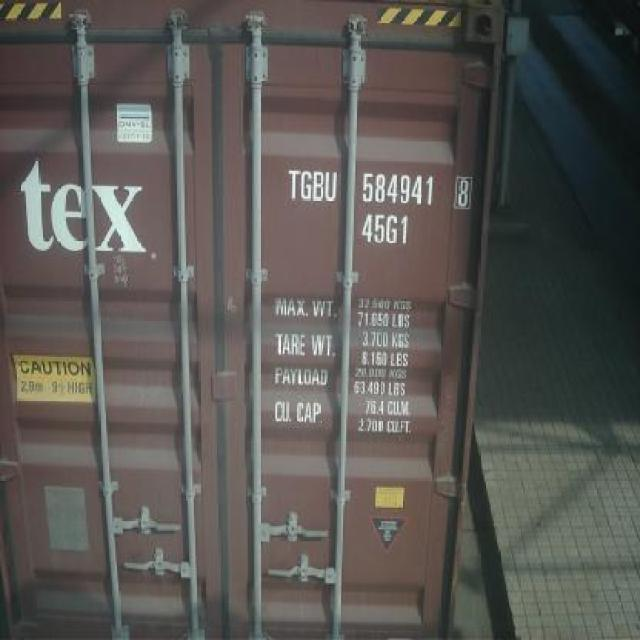ISO: (360, 212, 410, 245)
container_number: (288, 172, 470, 206)
